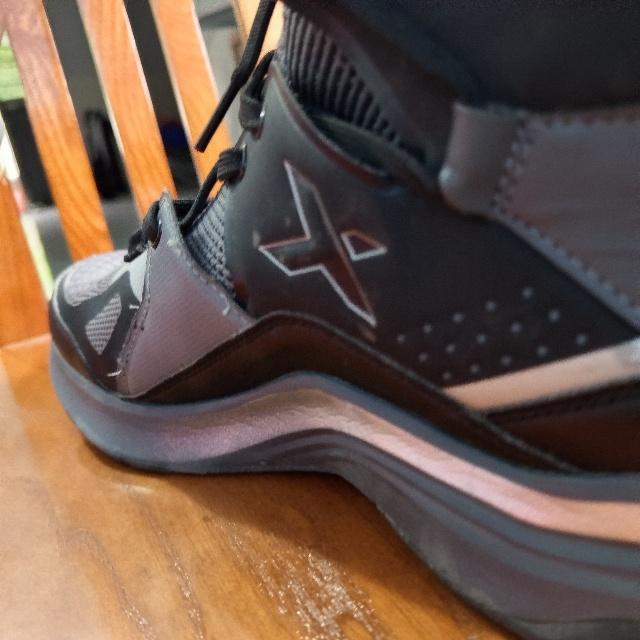broken-error: (103, 352, 125, 380), (160, 238, 186, 260)
